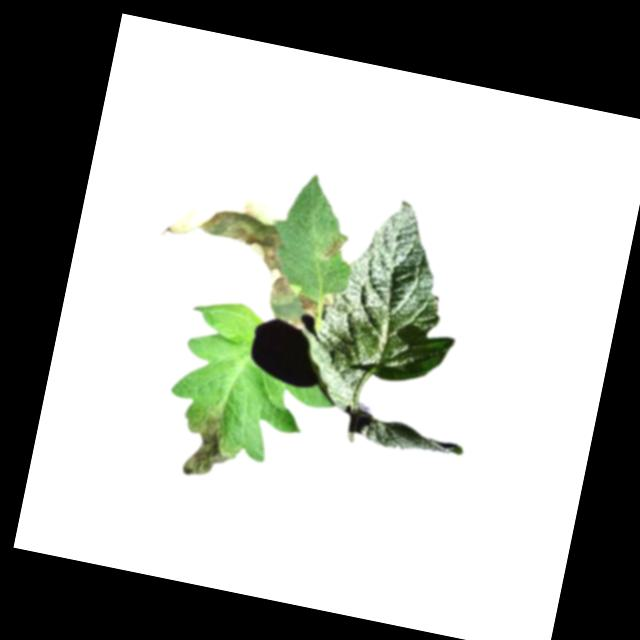Late_blight: (156, 182, 314, 310), (174, 403, 242, 483), (319, 232, 346, 264), (294, 292, 321, 316)
